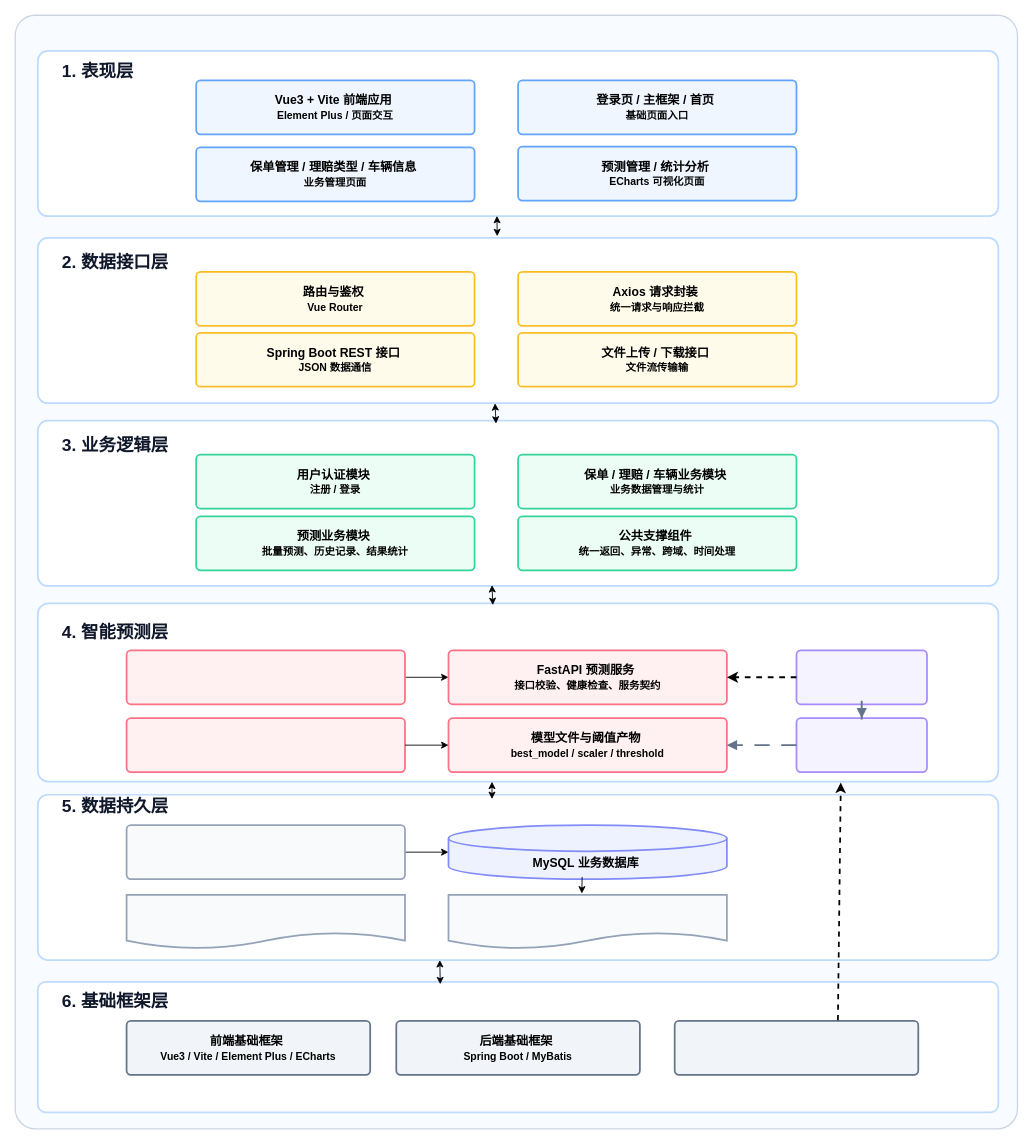
Image size: 1034x1145. Some labels were removed from this diagram. The box of each missing label's shape, as (x1, y1, x2, y2) in pixels:
MLP 在线推理模块 输出理赔率、风险等级、预计赔付金: (125, 717, 405, 773)
MyBatis 数据访问层 Mapper / XML / 分页 / 统计查询: (125, 824, 405, 880)
Spring Boot调用 将保单记录转发到预测服务: (125, 649, 405, 705)
业务数据表与统计结果 支撑管理页面与预测结果展示: (125, 893, 405, 949)
本地文件存储 上传文件与导出文件: (447, 893, 727, 949)
离线训练模块 TrainModel: (795, 717, 927, 773)
算法与服务基础 FastAPI / PyTorch / Pandas: (673, 1020, 919, 1075)
训练数据集 CSV 数据: (795, 649, 927, 705)
